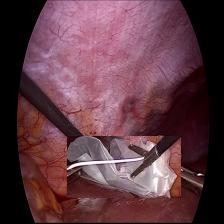Specimen Bag: (67, 136, 181, 198)
